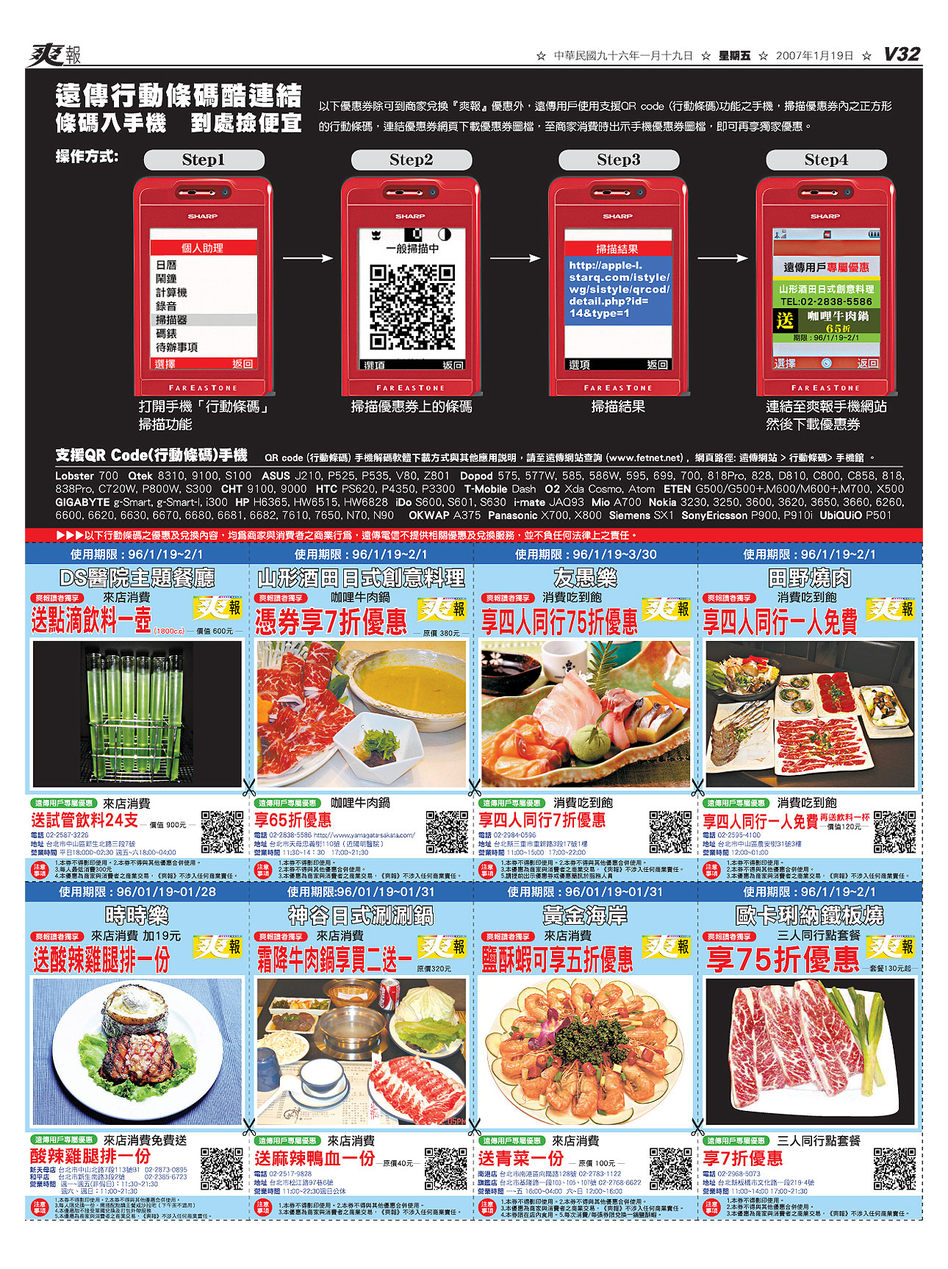QR-CODE: (370, 265, 454, 349), (201, 1148, 243, 1190), (650, 1148, 692, 1190), (201, 811, 243, 853), (425, 1148, 467, 1190), (650, 811, 691, 853), (426, 811, 467, 853), (874, 811, 915, 853), (874, 1148, 915, 1190)
